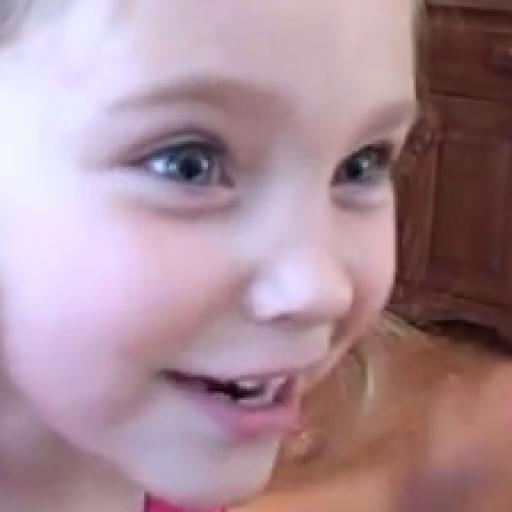Autism: (44, 19, 445, 510)
